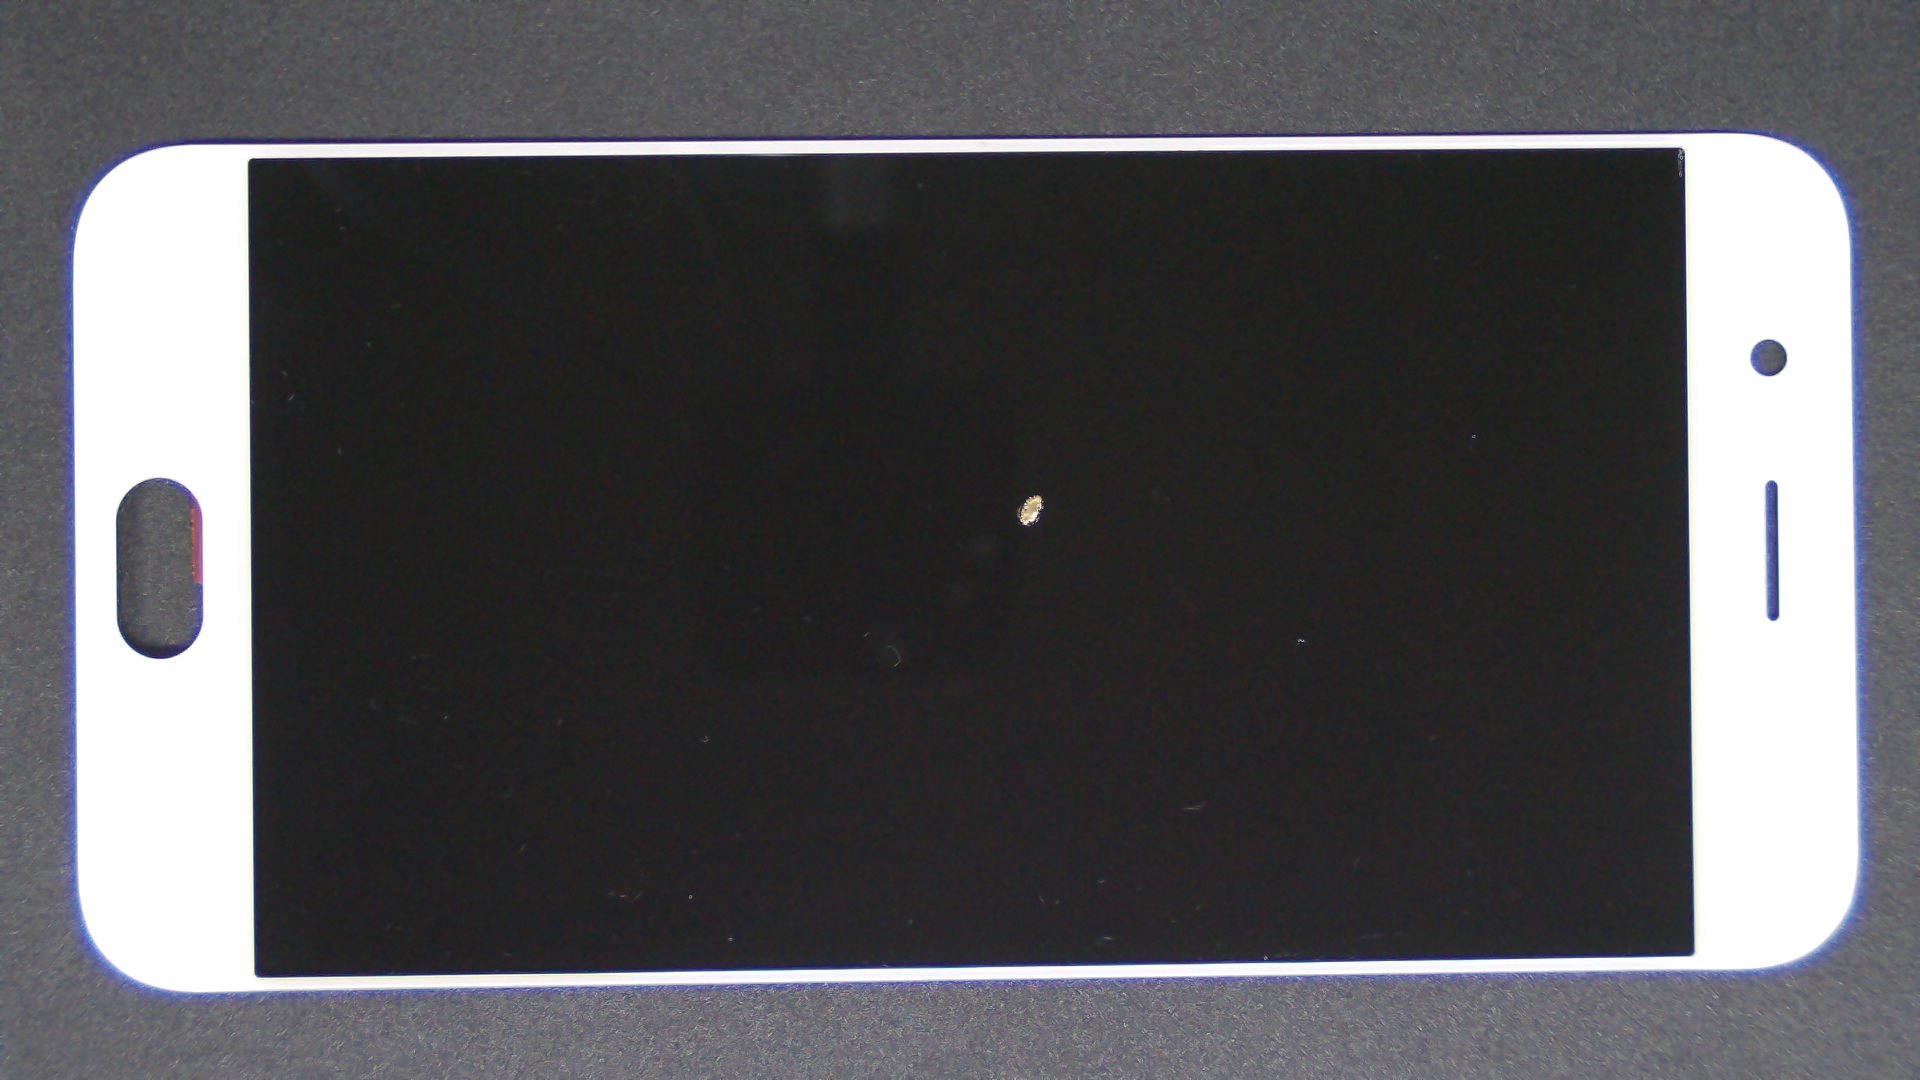oil: (517, 247, 1548, 740)
